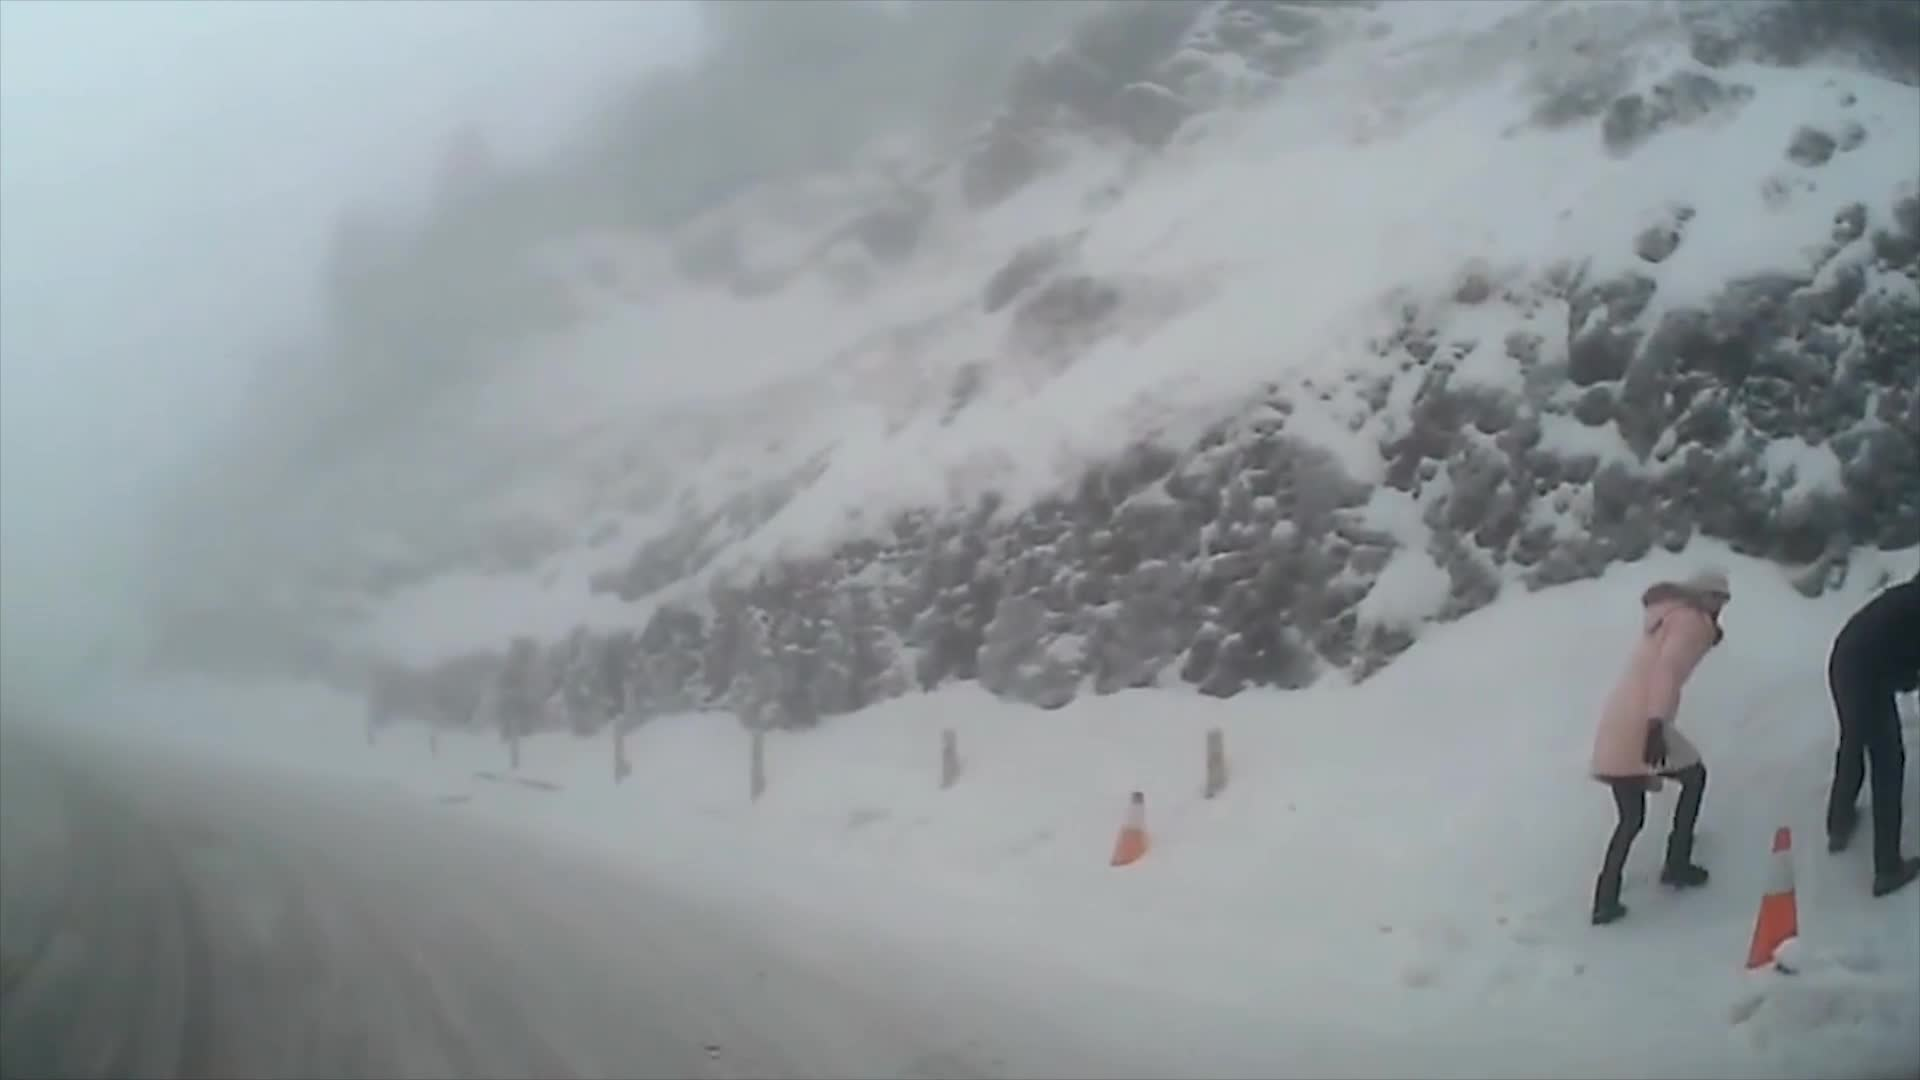pedestrian: (1591, 569, 1745, 930), (1825, 579, 1920, 899)
